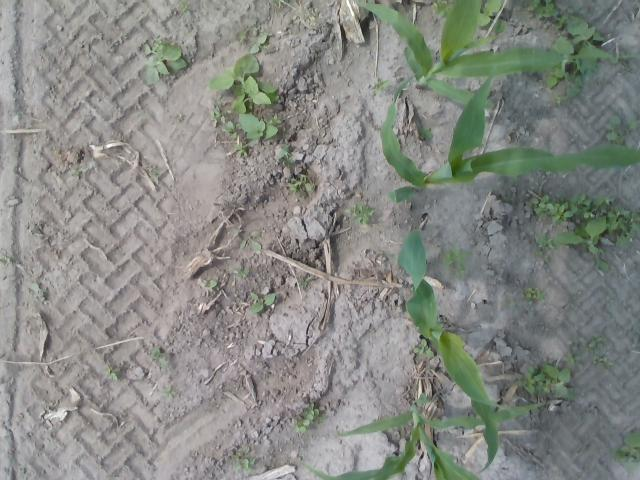Maize: (379, 70, 640, 202), (357, 0, 640, 109), (395, 228, 502, 473), (298, 392, 562, 480)
Weeds: (531, 194, 640, 272), (207, 52, 280, 114), (542, 36, 585, 106), (138, 36, 188, 85), (514, 364, 576, 399), (562, 333, 613, 372), (524, 0, 570, 31), (239, 112, 282, 143), (568, 15, 606, 50), (612, 428, 640, 473), (292, 402, 326, 434), (604, 115, 640, 144), (234, 27, 271, 55), (477, 0, 506, 35), (442, 245, 470, 277), (344, 202, 374, 226), (286, 172, 312, 198), (233, 446, 256, 473), (248, 291, 276, 313), (276, 142, 295, 168), (239, 231, 262, 251), (412, 338, 434, 358), (434, 0, 454, 20), (522, 286, 547, 302), (222, 120, 242, 139), (208, 108, 226, 126), (371, 77, 389, 94), (618, 58, 634, 74), (234, 142, 249, 158), (178, 0, 192, 16), (104, 369, 120, 381), (419, 126, 432, 140), (204, 278, 218, 290), (232, 269, 250, 278), (506, 298, 518, 310), (149, 346, 160, 359), (298, 277, 312, 287), (70, 168, 90, 174), (268, 0, 282, 6), (0, 256, 10, 264), (164, 390, 174, 398), (160, 362, 168, 370)
